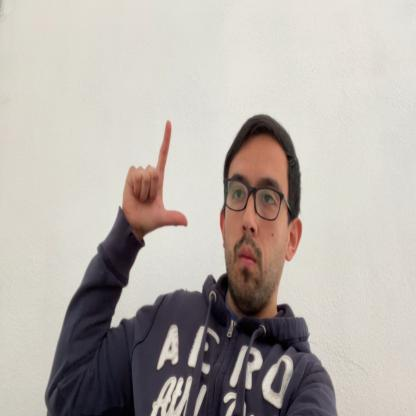L: (122, 120, 188, 231)
